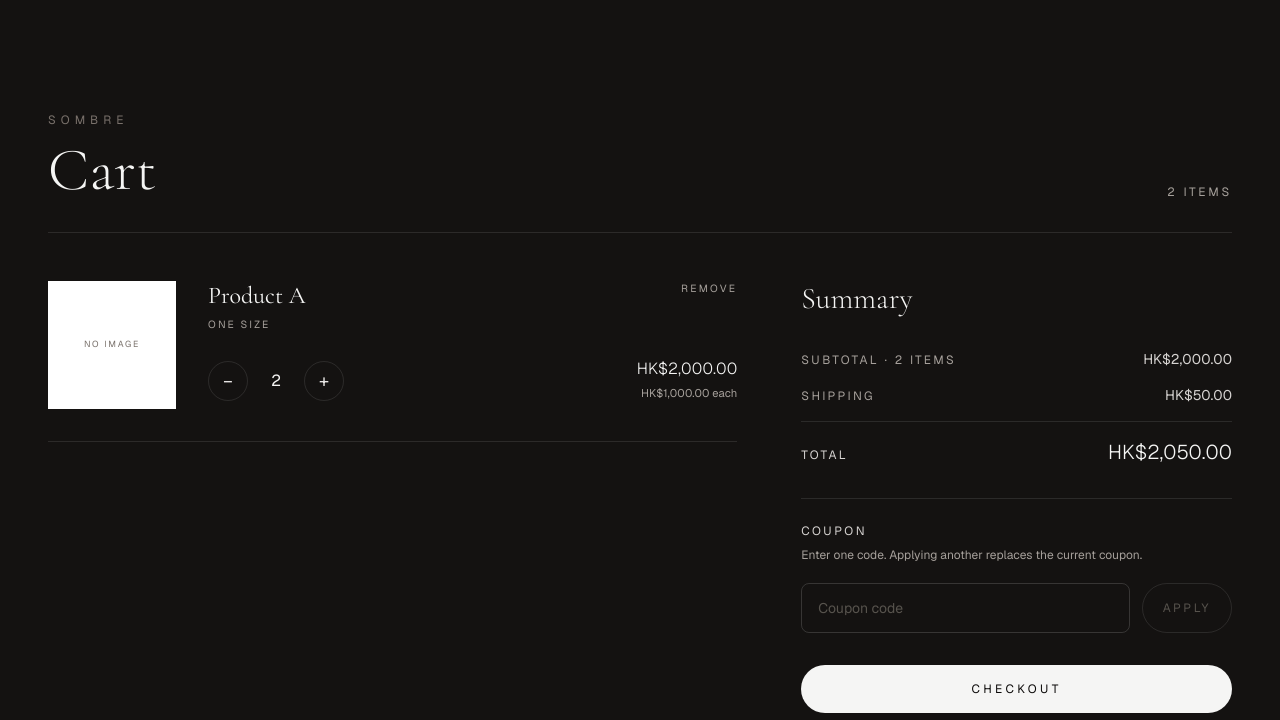
Test: Cart coupon interface › uses the safe server message for invalid_coupon
The image size is (1280, 720).
Type "wrong" into the field labelled "Coupon code" at (965, 608), box [801,583,1130,633]
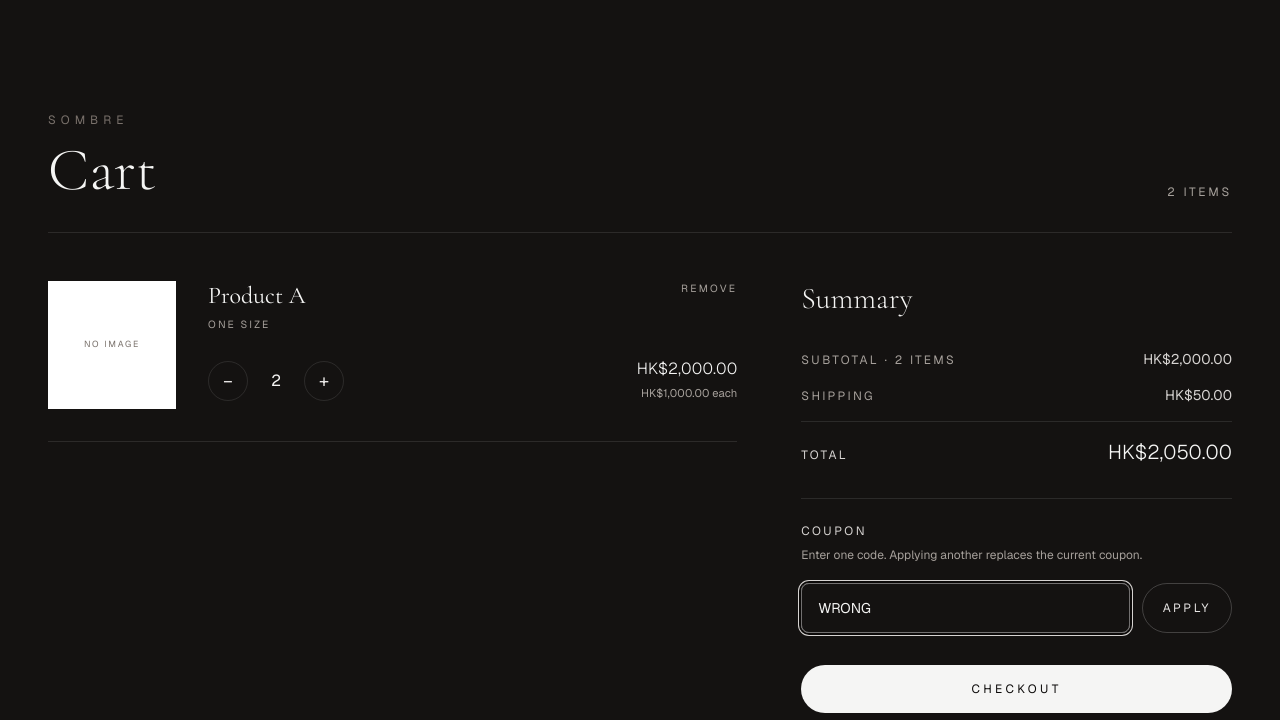
Click the button "Apply" at (1187, 608), box [1142,583,1232,633]
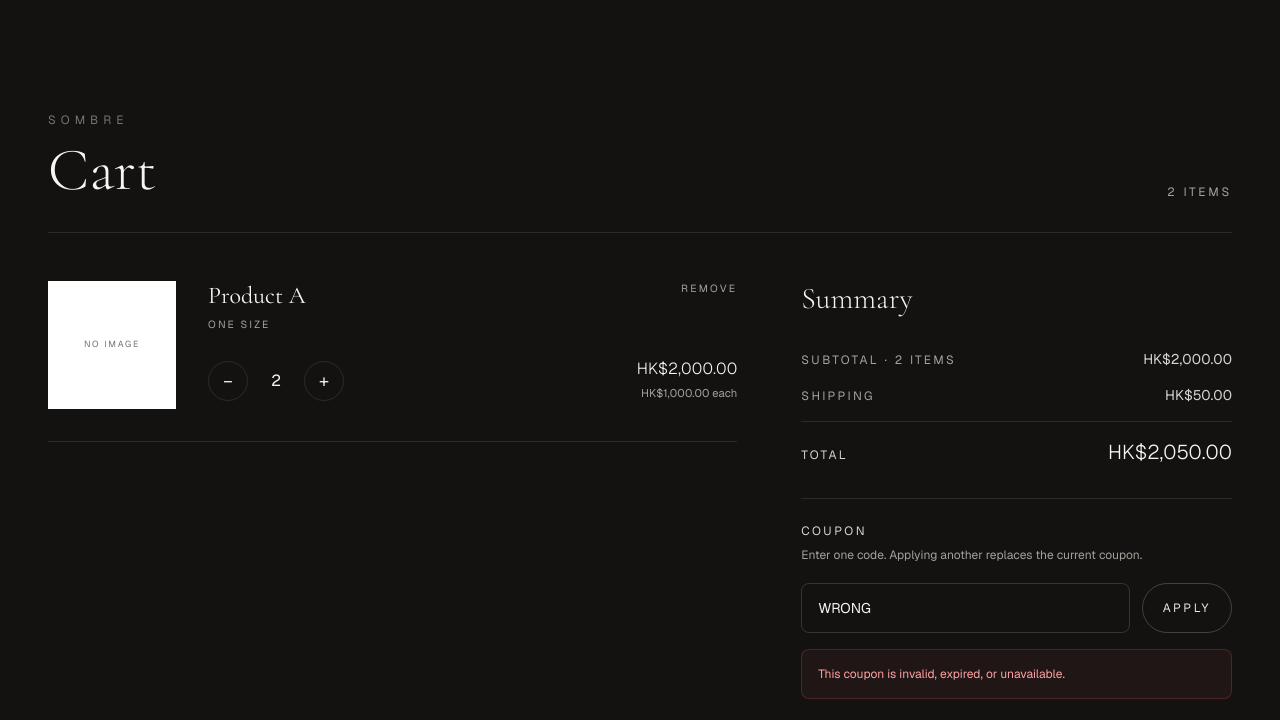
Check: the message reads "This coupon is invalid, expired, or unavailable.", box [818,666,1065,682]
